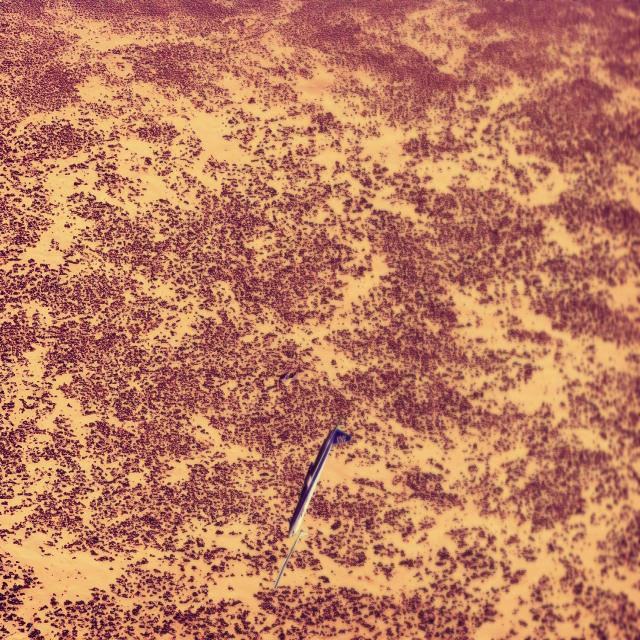airplane: (272, 426, 351, 590)
